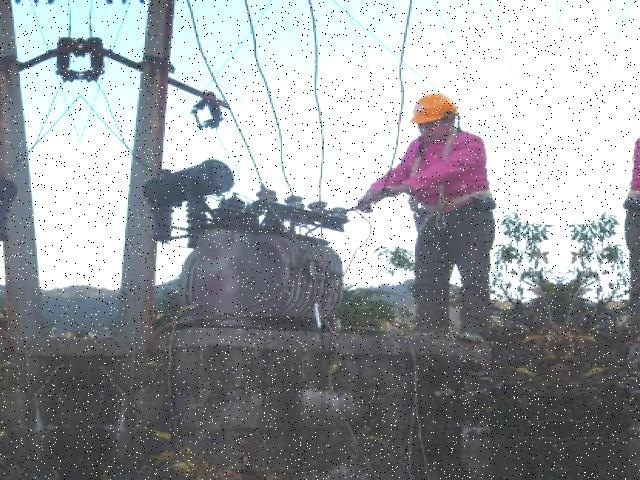Helmet: (403, 86, 463, 136)
